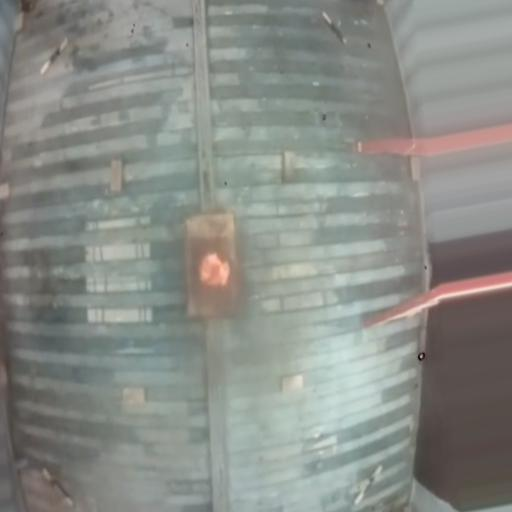Fire: (196, 254, 232, 285)
